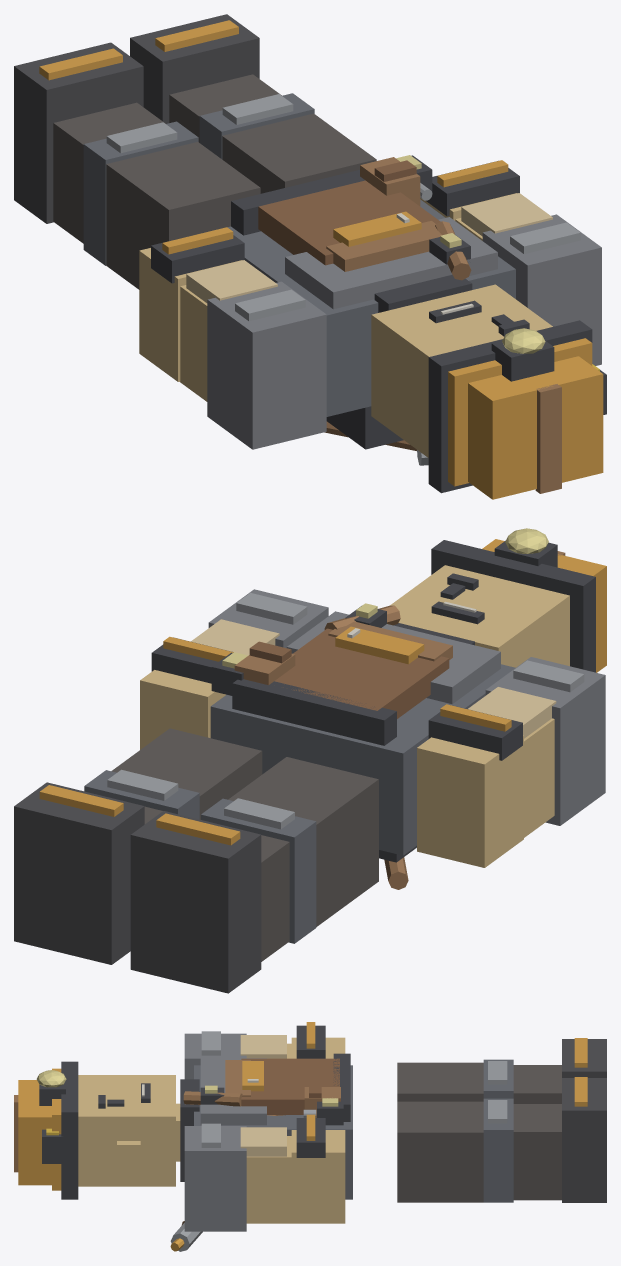
Rendered from roblox_miner_shopkeeper.glb.
The picture shows the model from 3 angles, top to bottom: view 1: azimuth 30°, elevation 25°; view 2: azimuth 150°, elevation 25°; view 3: azimuth 270°, elevation 25°; orthographic projection. The views are drawn at different scales.
Parts seen in each view (by area): view 1: L_shoulder, helmet_top, L_thigh, head, L_boot, torso, R_shoulder, R_thigh, R_boot, apron, chest_plate, L_shin (+29 smaller); view 2: L_boot, R_boot, torso, L_forearm, L_thigh, head, L_shoulder, apron, R_thigh, helmet_rim, belt, L_knee (+27 smaller); view 3: head, R_thigh, R_shoulder, R_boot, R_shin, R_forearm, apron, L_thigh, R_upper_arm, helmet_top, R_knee, helmet_rim (+31 smaller).
Boxes of the visible parts, x1,y1,x2,y2 form: L_shoulder: (207,281,326,449); helmet_top: (468,356,603,499); L_thigh: (106,142,260,289); head: (371,284,552,457); L_boot: (14,42,143,223); torso: (228,199,515,416); R_shoulder: (482,214,601,365); R_thigh: (222,113,376,193); R_boot: (130,14,259,123); apron: (258,180,440,265); chest_plate: (285,217,497,309); L_shin: (53,102,165,243); L_boot: (130,811,261,993); R_boot: (14,782,144,964); torso: (210,664,515,855); L_forearm: (417,735,523,867); L_thigh: (228,757,378,926); head: (390,565,569,667); L_shoulder: (485,657,605,825); apron: (274,628,449,718); R_thigh: (111,728,262,819); helmet_rim: (431,540,595,672); belt: (232,679,396,745); L_knee: (201,798,316,943); head: (78,1075,175,1186); R_thigh: (397,1101,483,1202); R_shoulder: (184,1126,246,1231); R_boot: (562,1078,606,1202); R_shin: (513,1104,561,1200); R_forearm: (291,1130,345,1223); apron: (241,1058,339,1114); L_thigh: (397,1062,483,1101); R_upper_arm: (246,1136,291,1223); helmet_top: (18,1080,51,1185); R_knee: (483,1098,513,1202); helmet_rim: (61,1061,78,1199).
Bounding box in the file's own units: 2.59 × 1.6 × 5.53.
